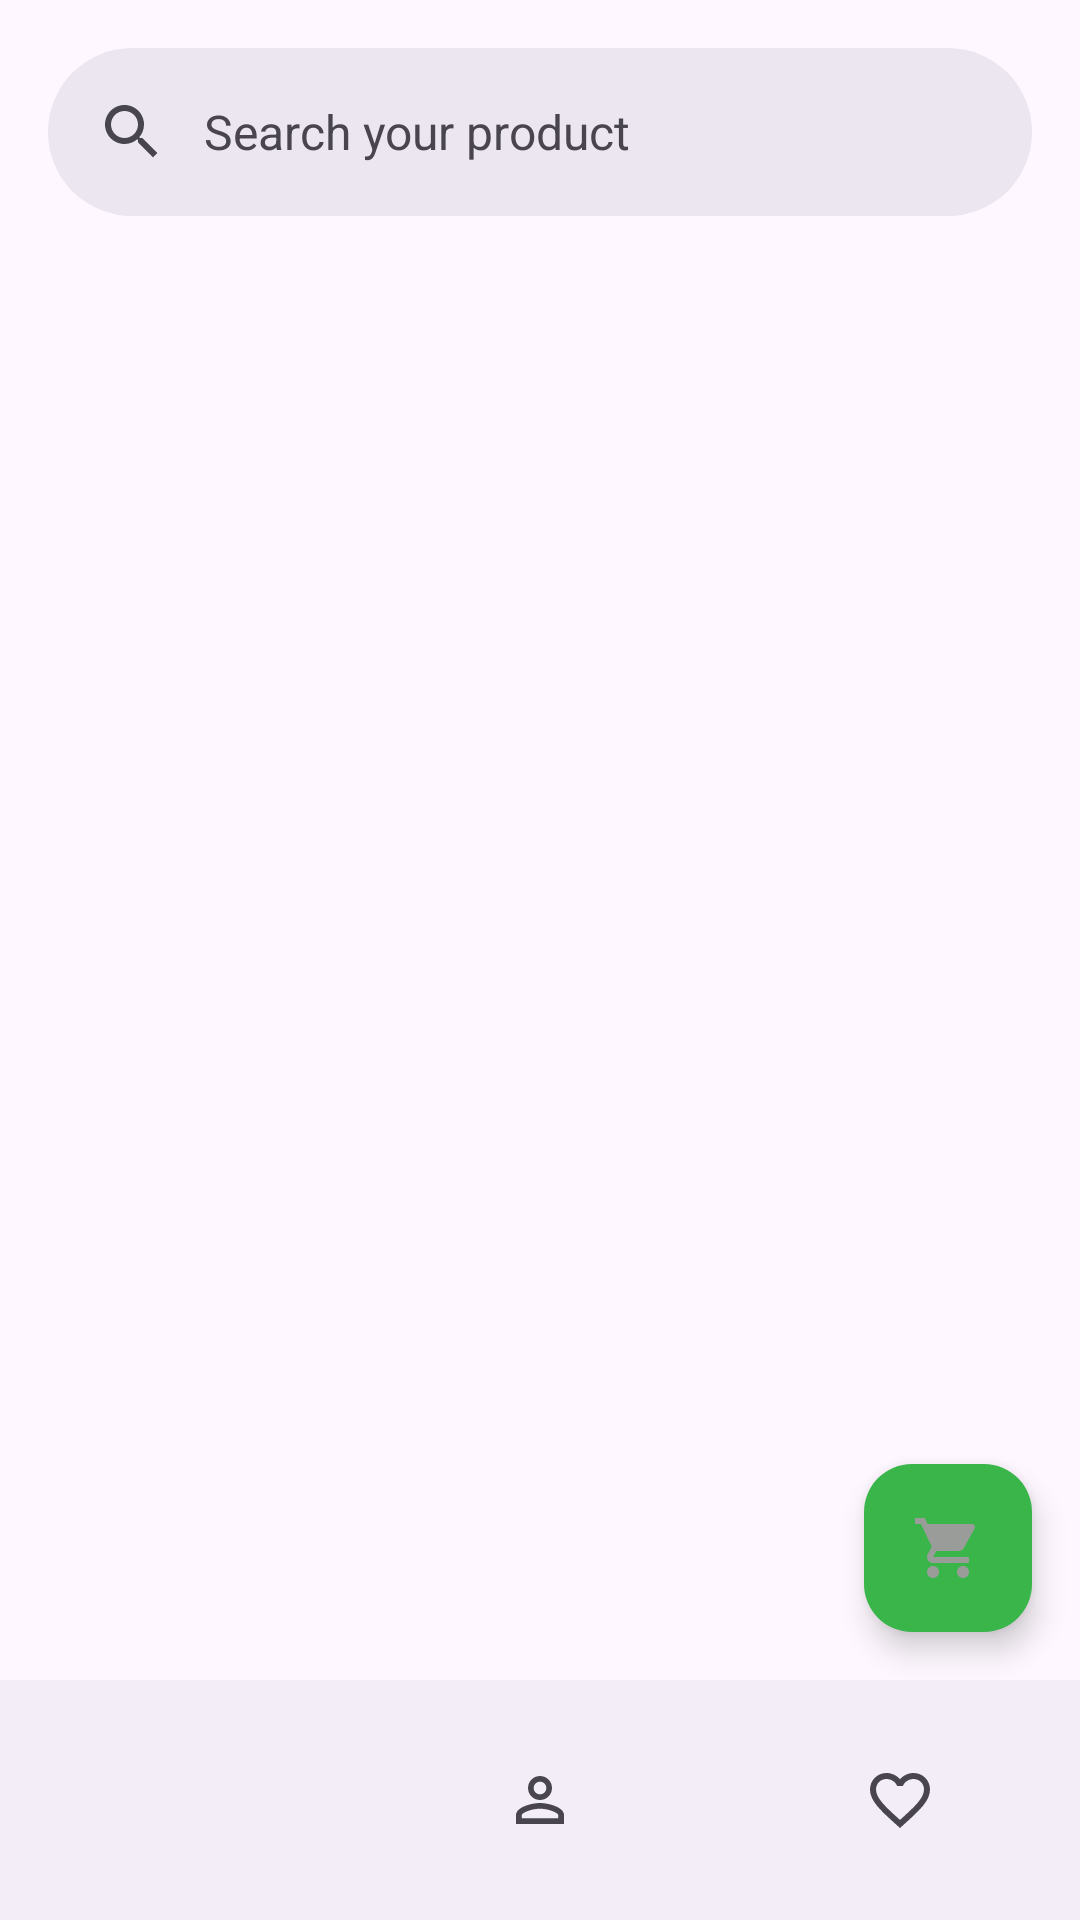

Screen size 1080×1920. Icon name, then its box in pixels as (x1, y1, x2, y2):
cart: (864, 1464, 1032, 1632)
